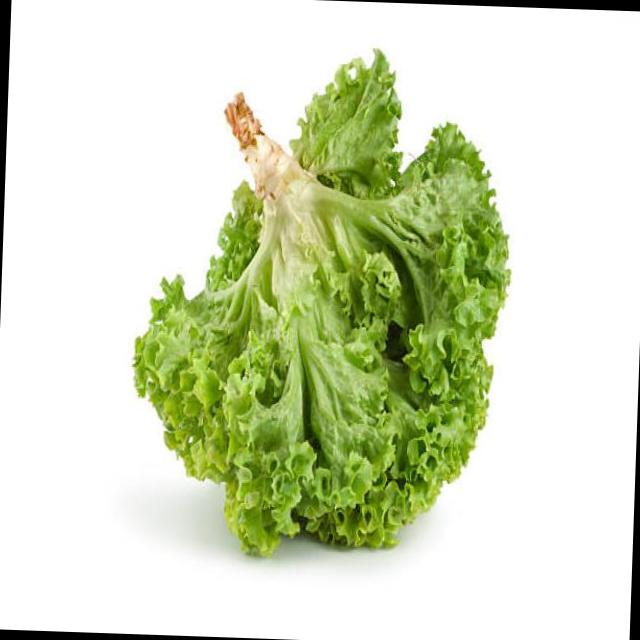Lettuce-Ready-to-Harvest: (135, 52, 508, 554)
